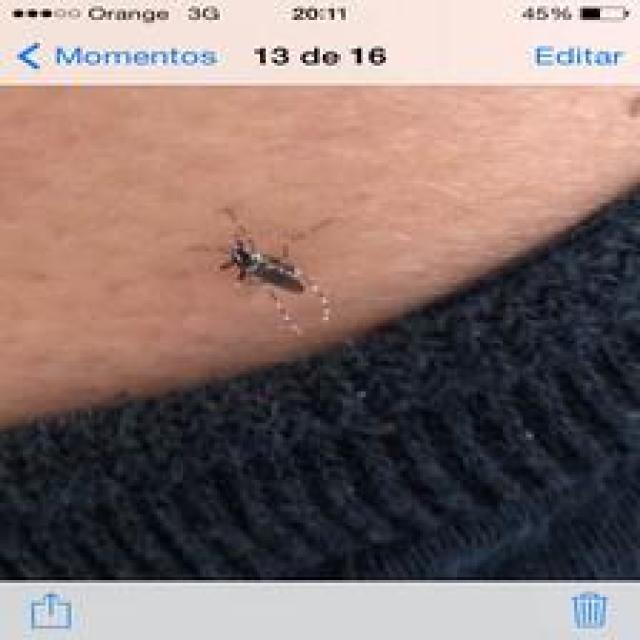Aedes albopictus: (216, 229, 333, 337)
